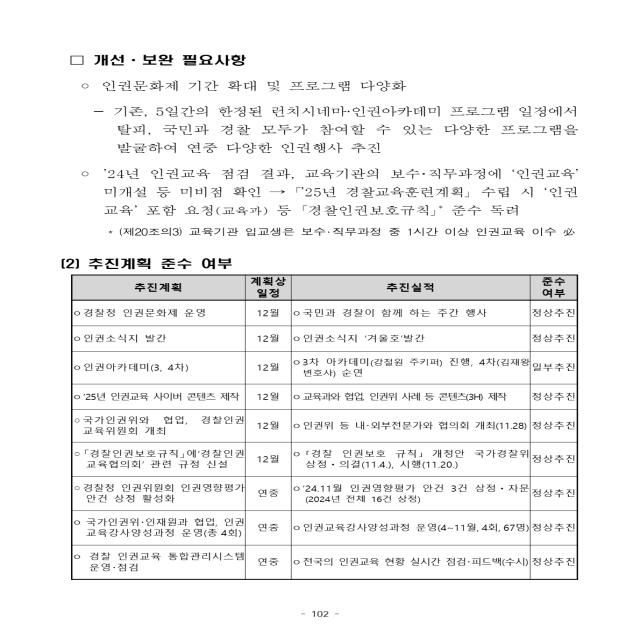subtitle: (58, 255, 238, 273)
table: (69, 274, 580, 580)
text: (64, 49, 586, 243)
